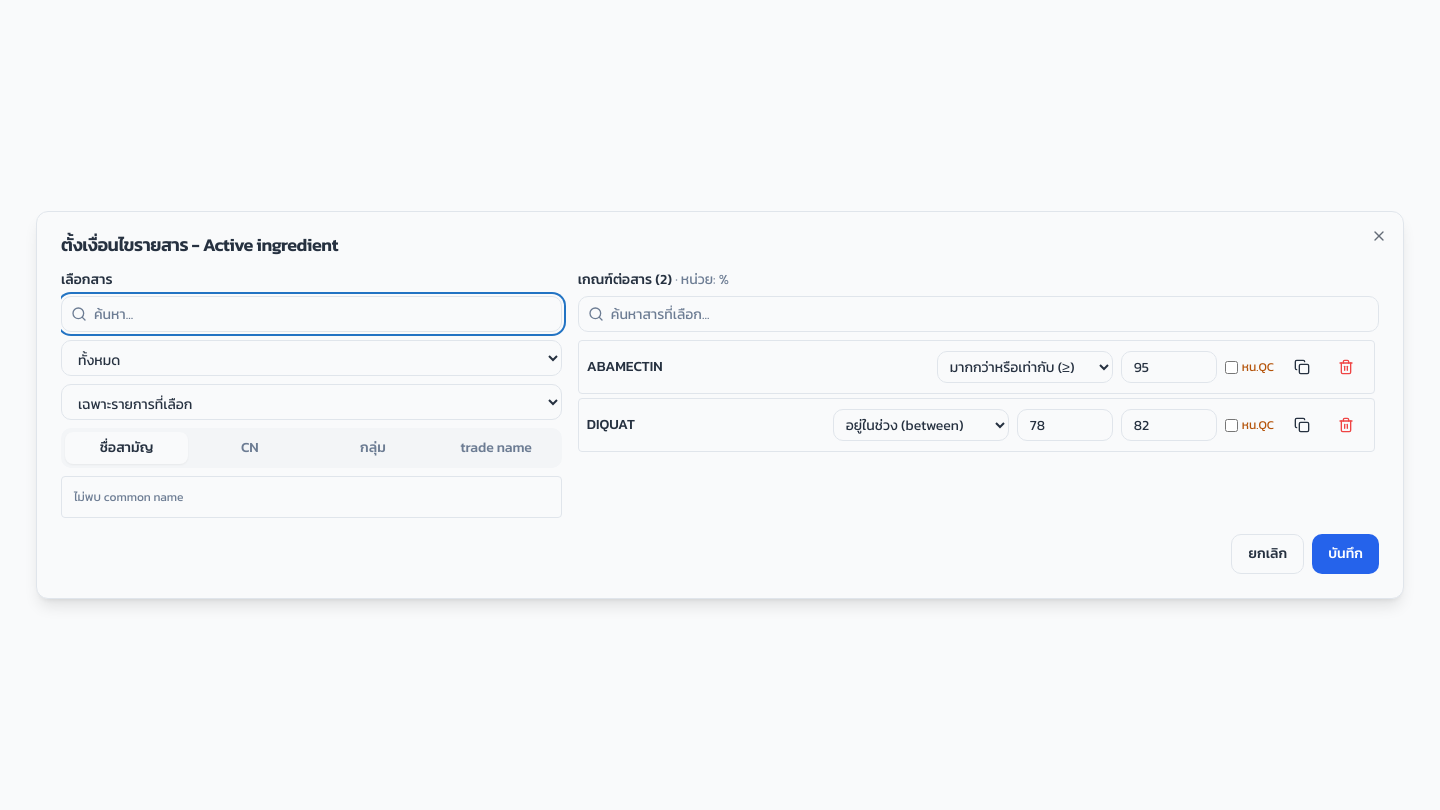
Test case: SubstanceStandardsDialog › reveals the second value input when operator becomes tolerance
This screenshot has width=1440, height=810.
Select "ค่ามาตรฐาน ± %" in the dropdown named "เงื่อนไข ABAMECTIN": (1025, 367) [937,351,1113,383]
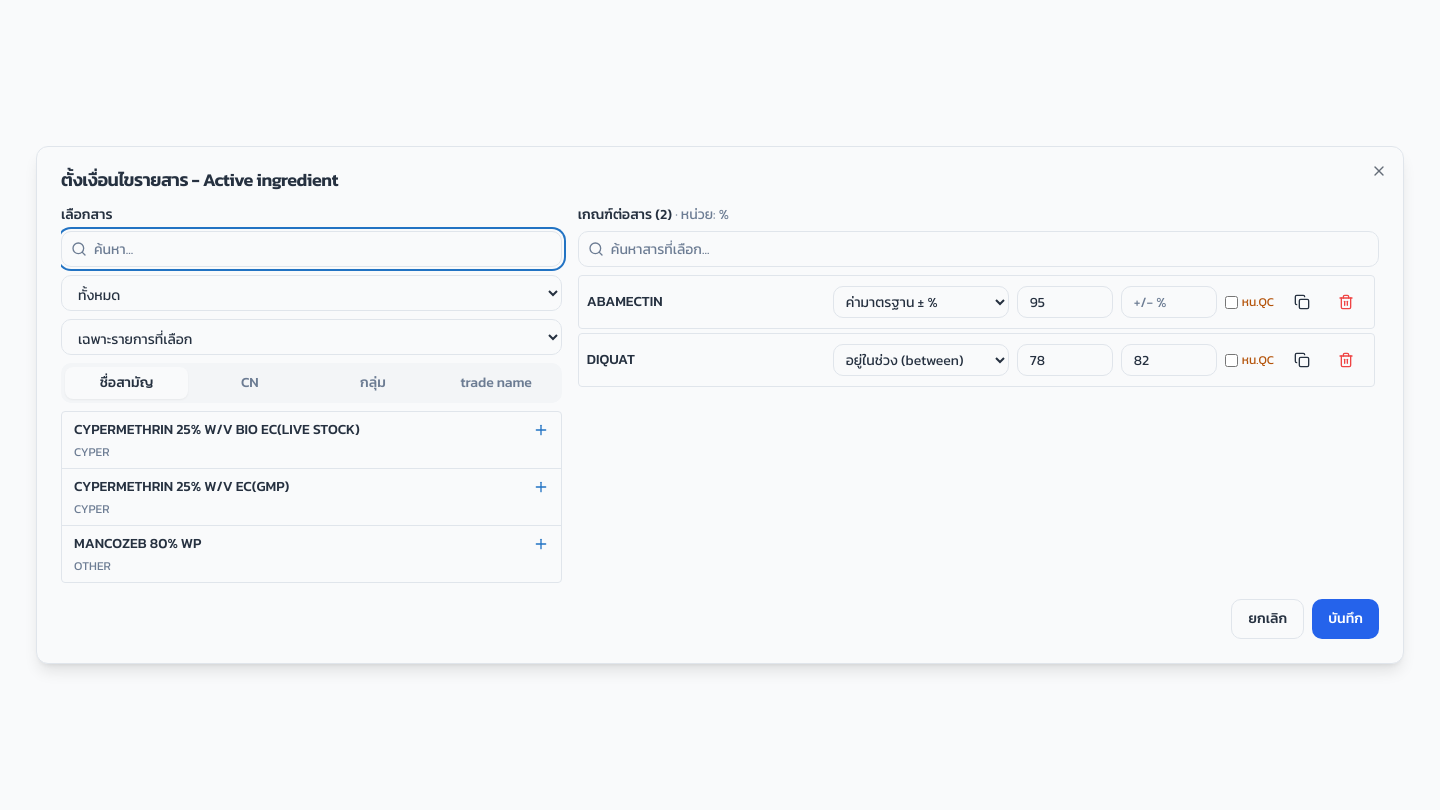
Expected: the number field named "ค่าที่สอง ABAMECTIN" is shown, [1121,286,1217,318]
